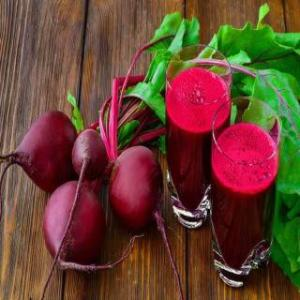beet: (42, 180, 106, 270), (14, 110, 74, 192), (112, 145, 164, 231), (75, 122, 103, 184)
